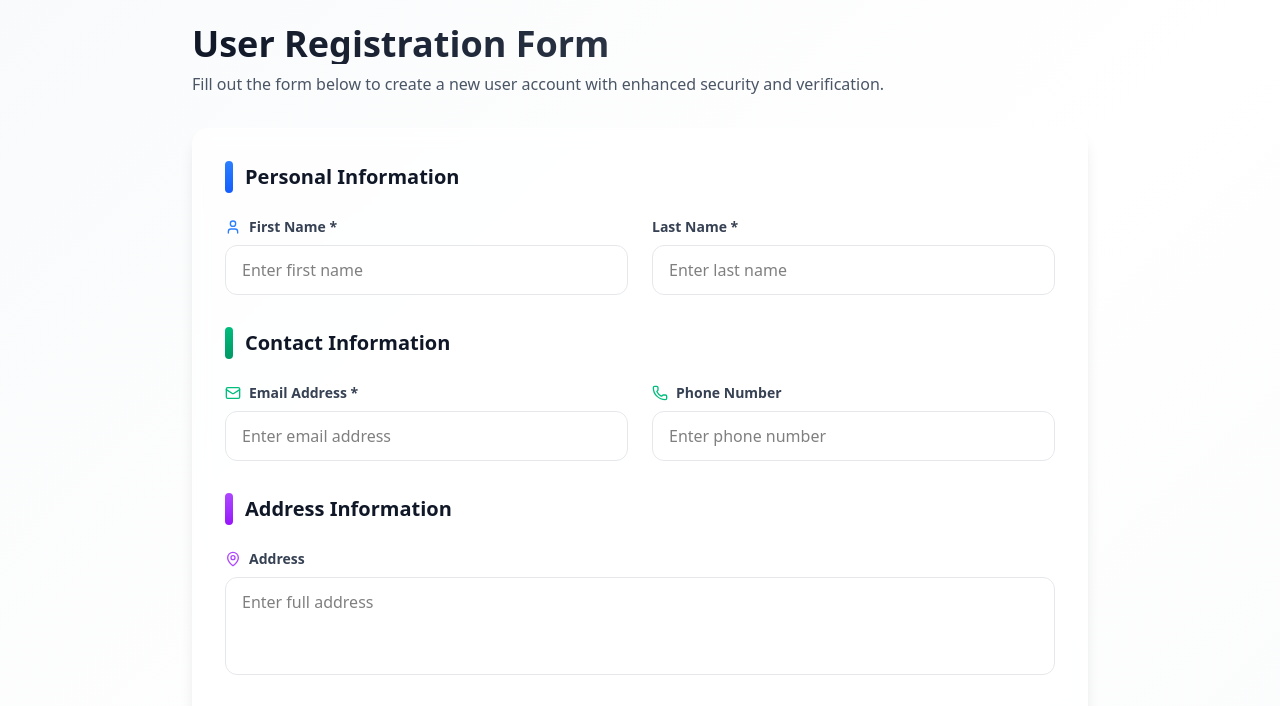
Test: FormView › handles cancel button click
The image size is (1280, 706).
Type "John" into the field labelled "First Name *" at (426, 270), box [225, 245, 628, 295]
(page scrolled)
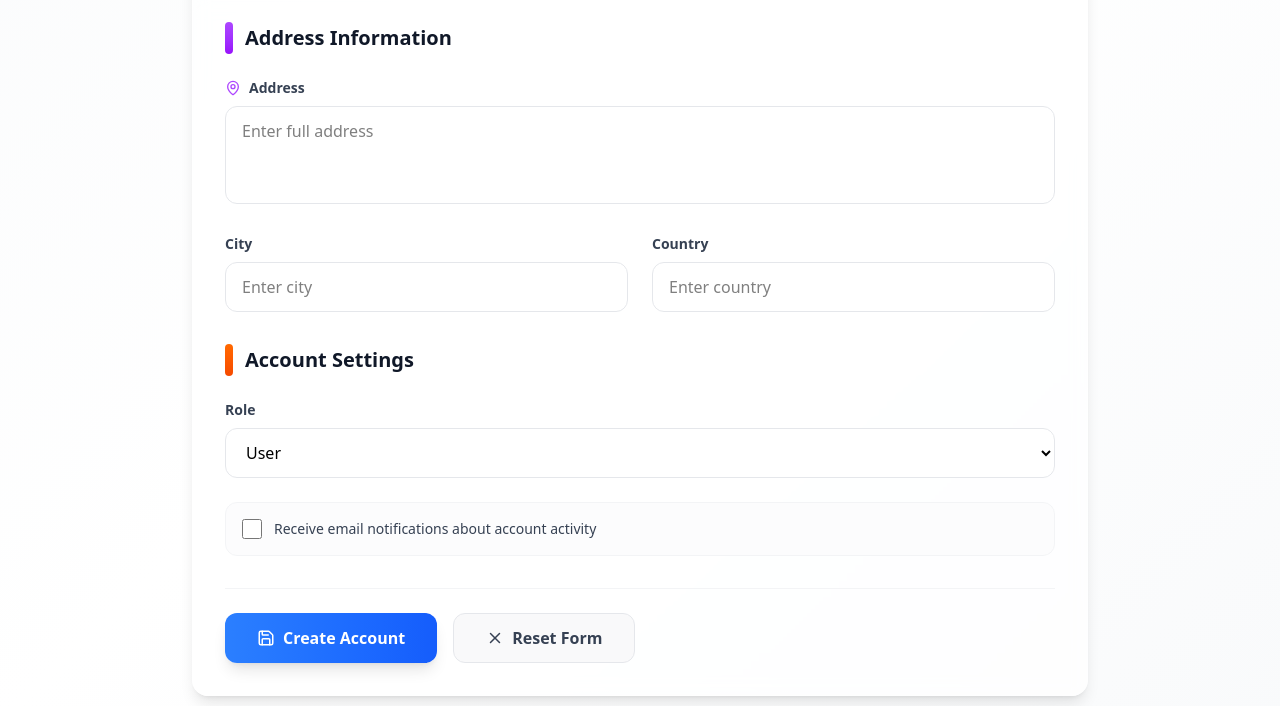
Click the button "Reset Form" at (544, 638), box [453, 613, 635, 663]
(page scrolled)
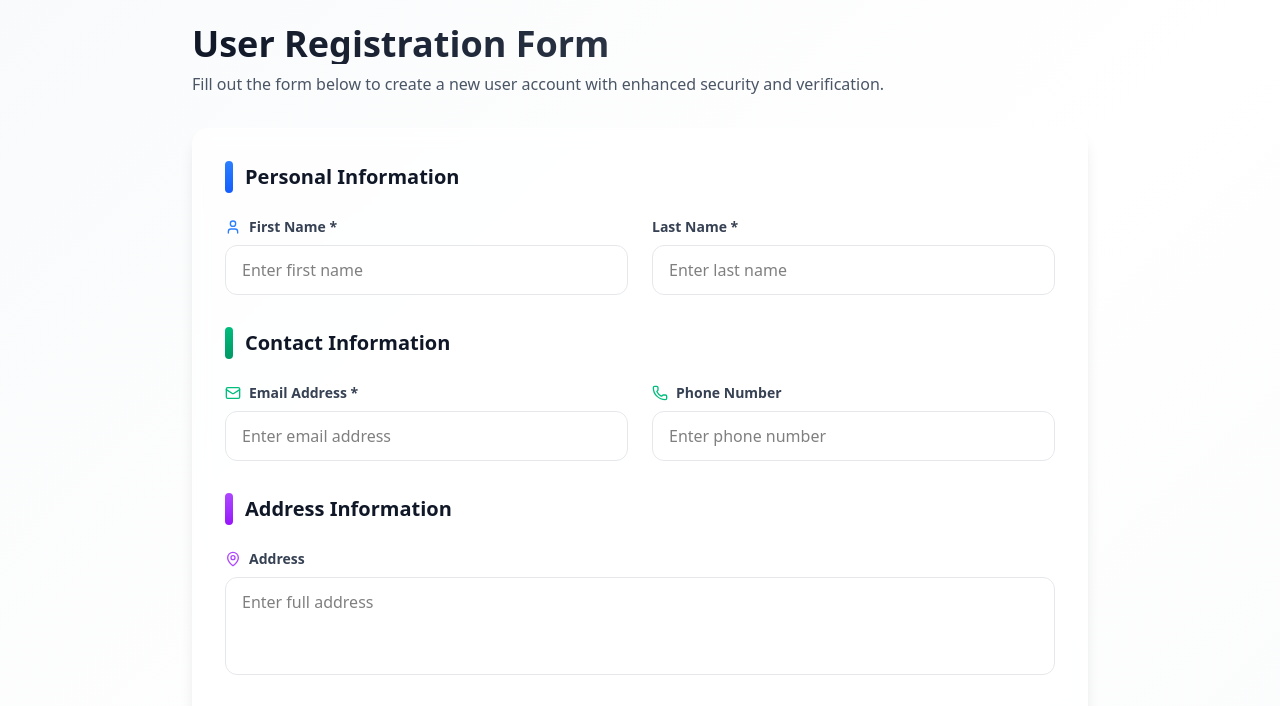
Check: the field labelled "First Name *" is empty, box [225, 245, 628, 295]
